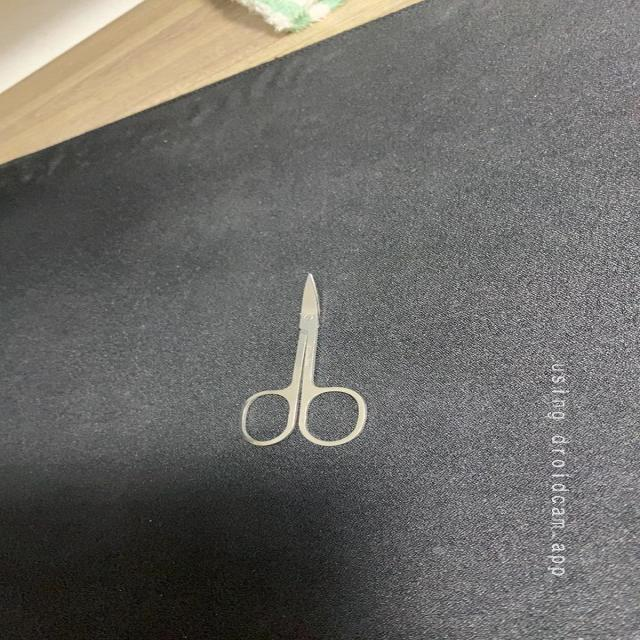scissor: (222, 267, 374, 448)
